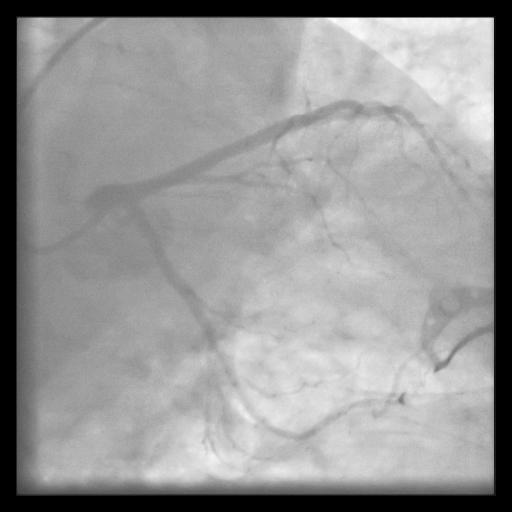Stenosis: (213, 344, 243, 392)
